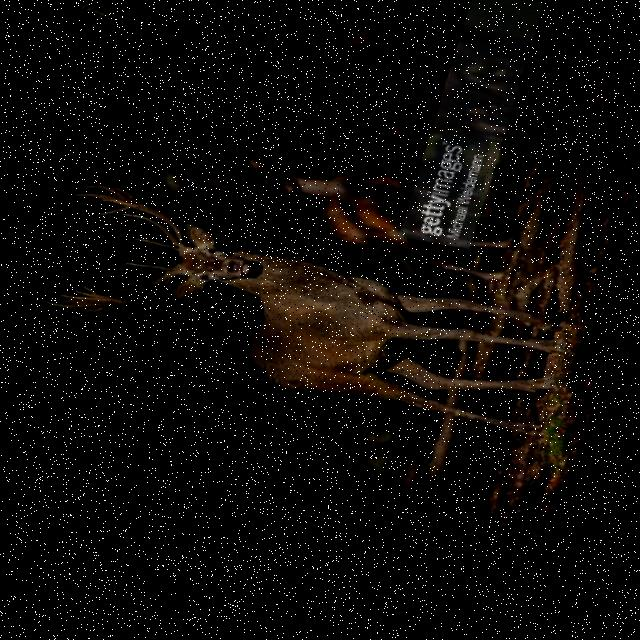L-G1: (136, 239, 181, 253)
L-G2: (123, 215, 183, 248)
R-G1: (126, 263, 173, 274)
R-G2: (115, 274, 177, 292)
